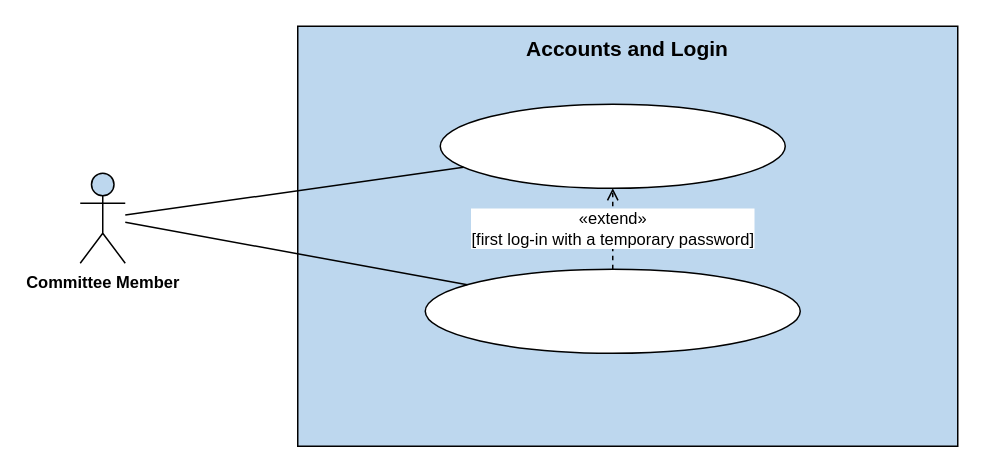
This 984x473 diagram has some shape labels left out. The centre of each missing label's shape, as x and y in pixels:
"Log in (UC-C01)" belongs at (612,145).
"Set new password (UC-C02, proposed)" belongs at (612,310).
